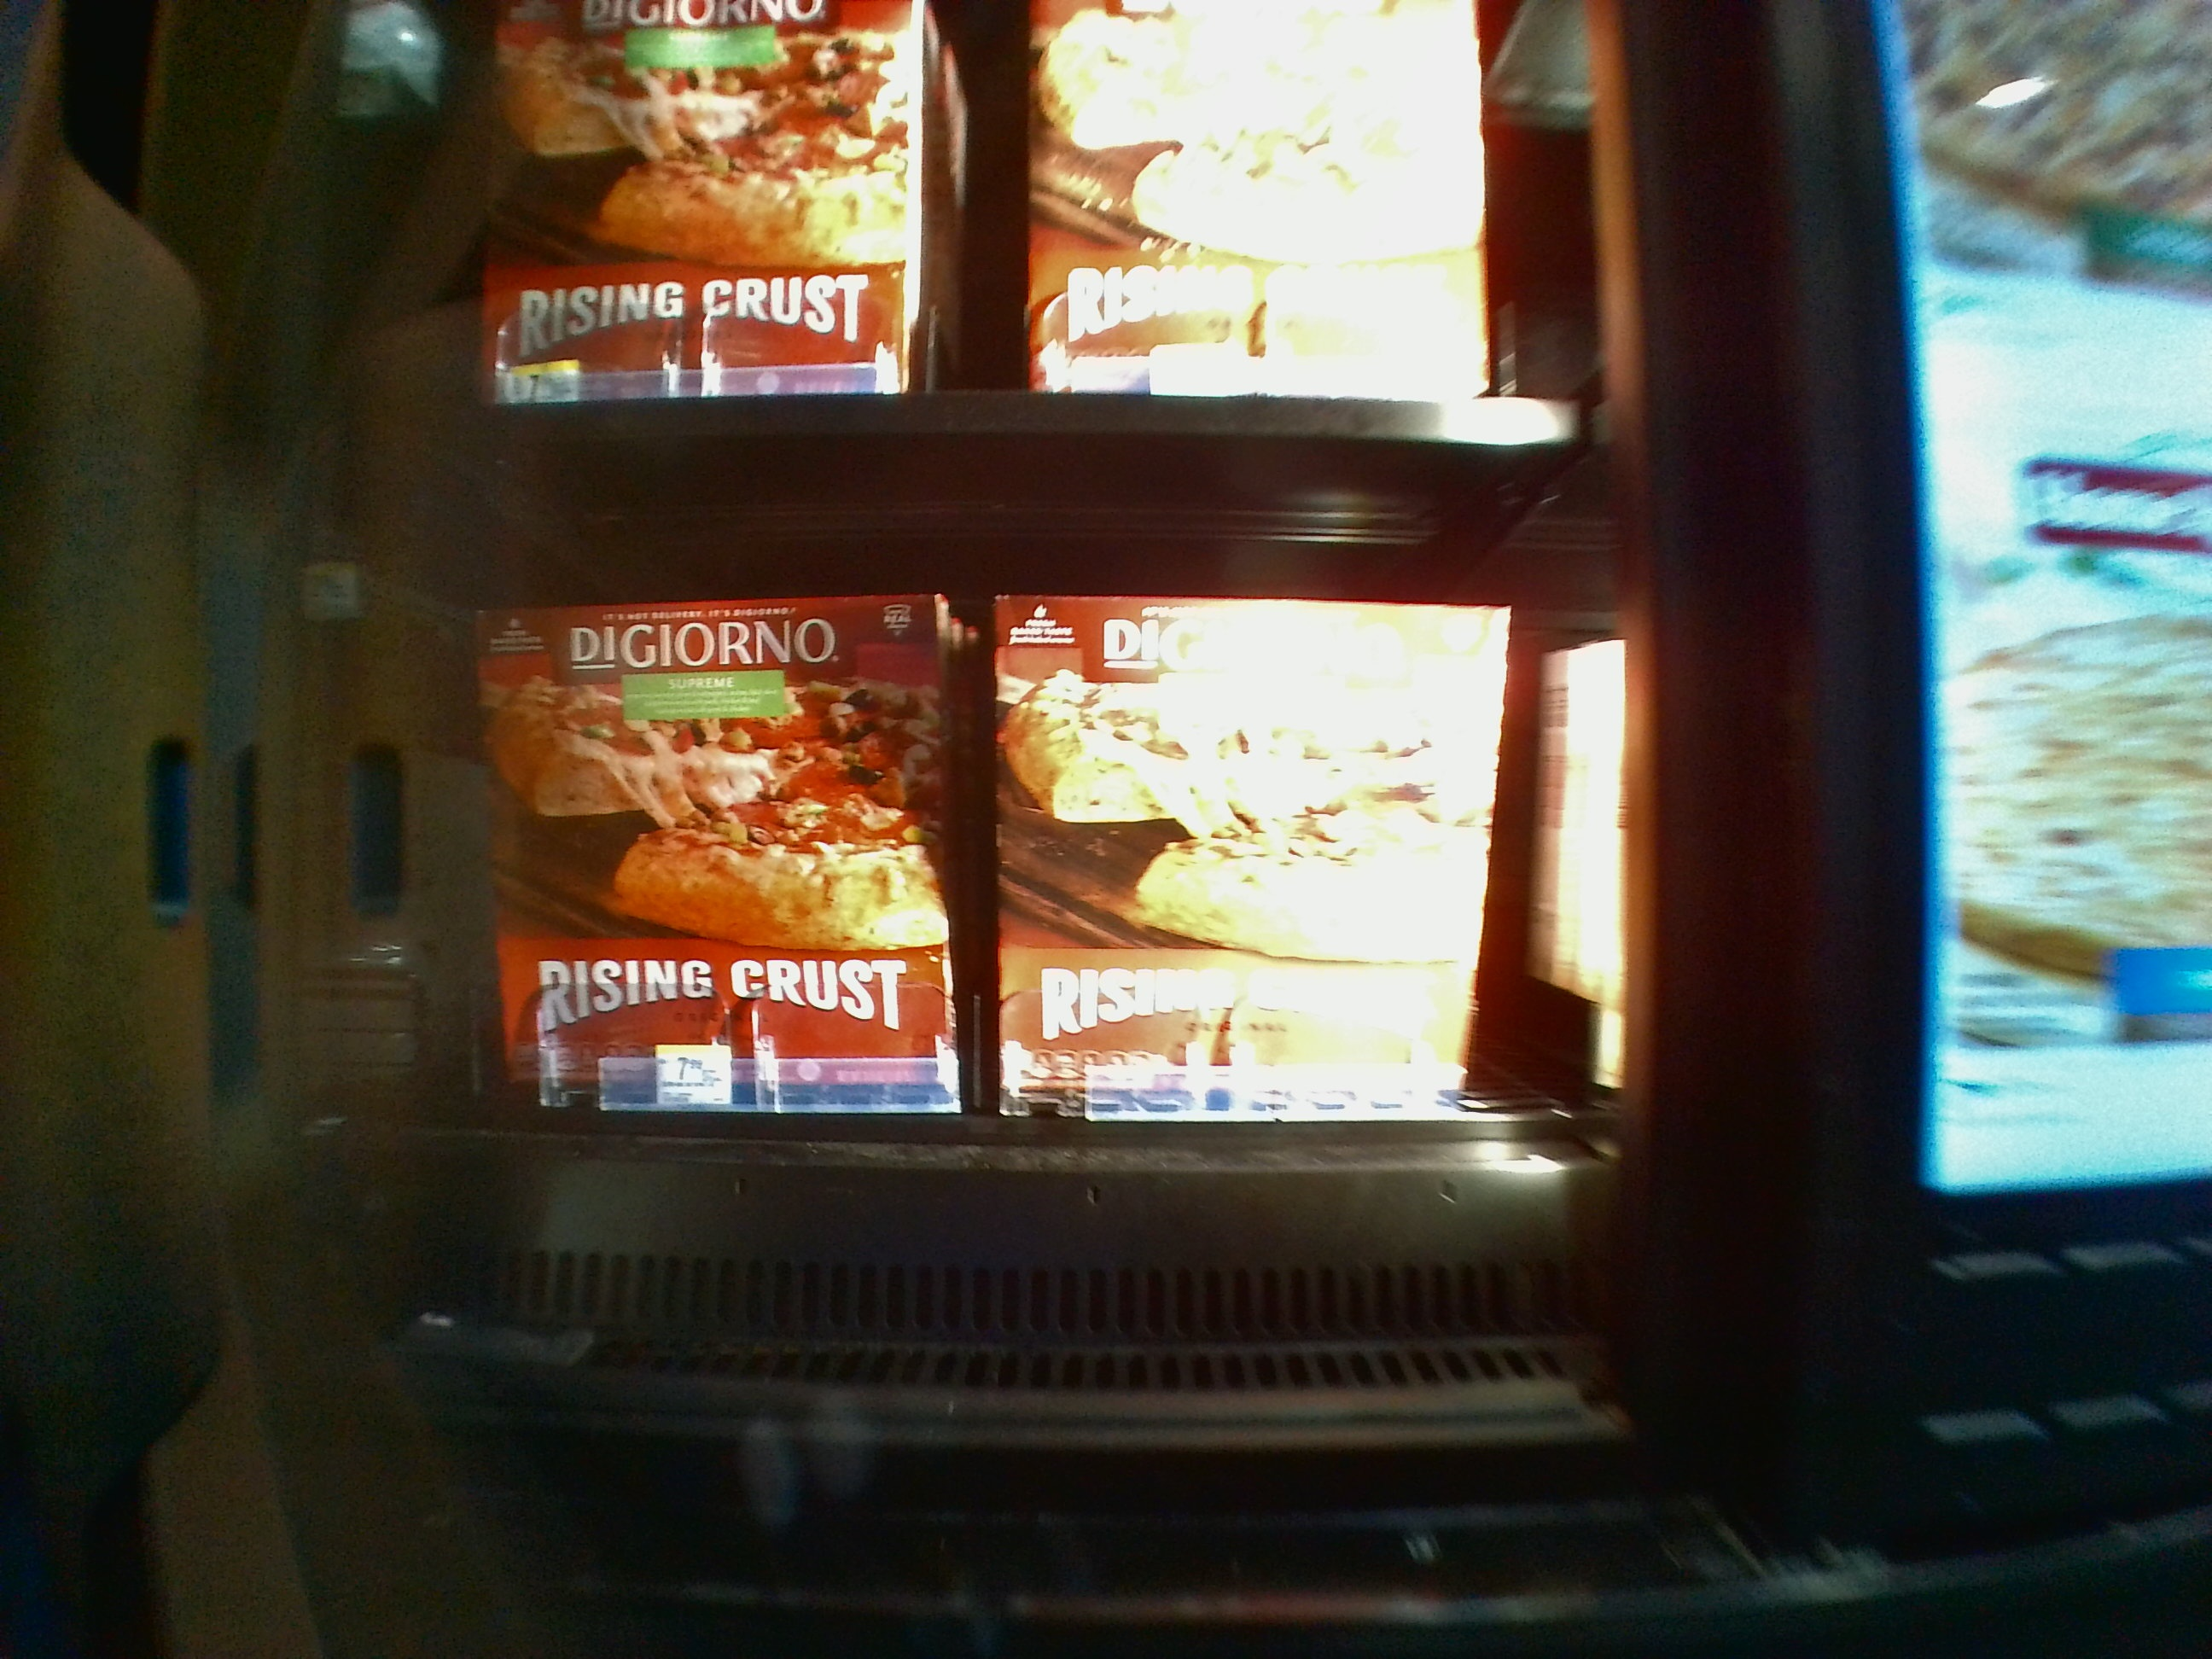shelf: (421, 448, 1602, 1347)
